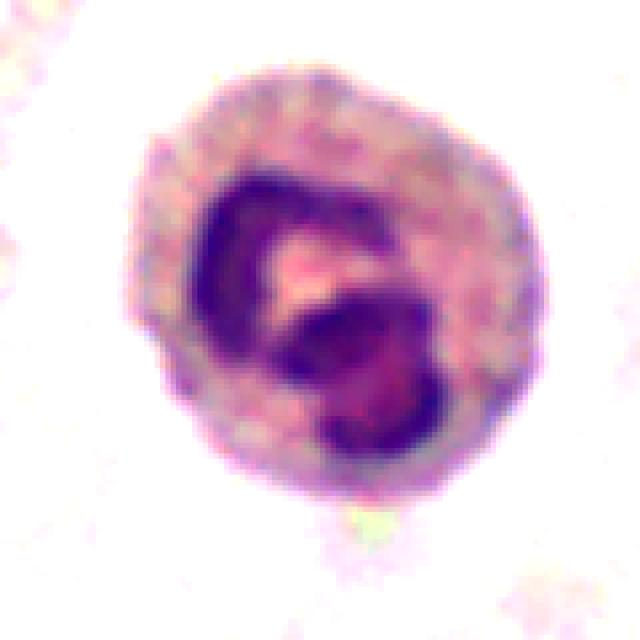WBC: (101, 53, 571, 523)
